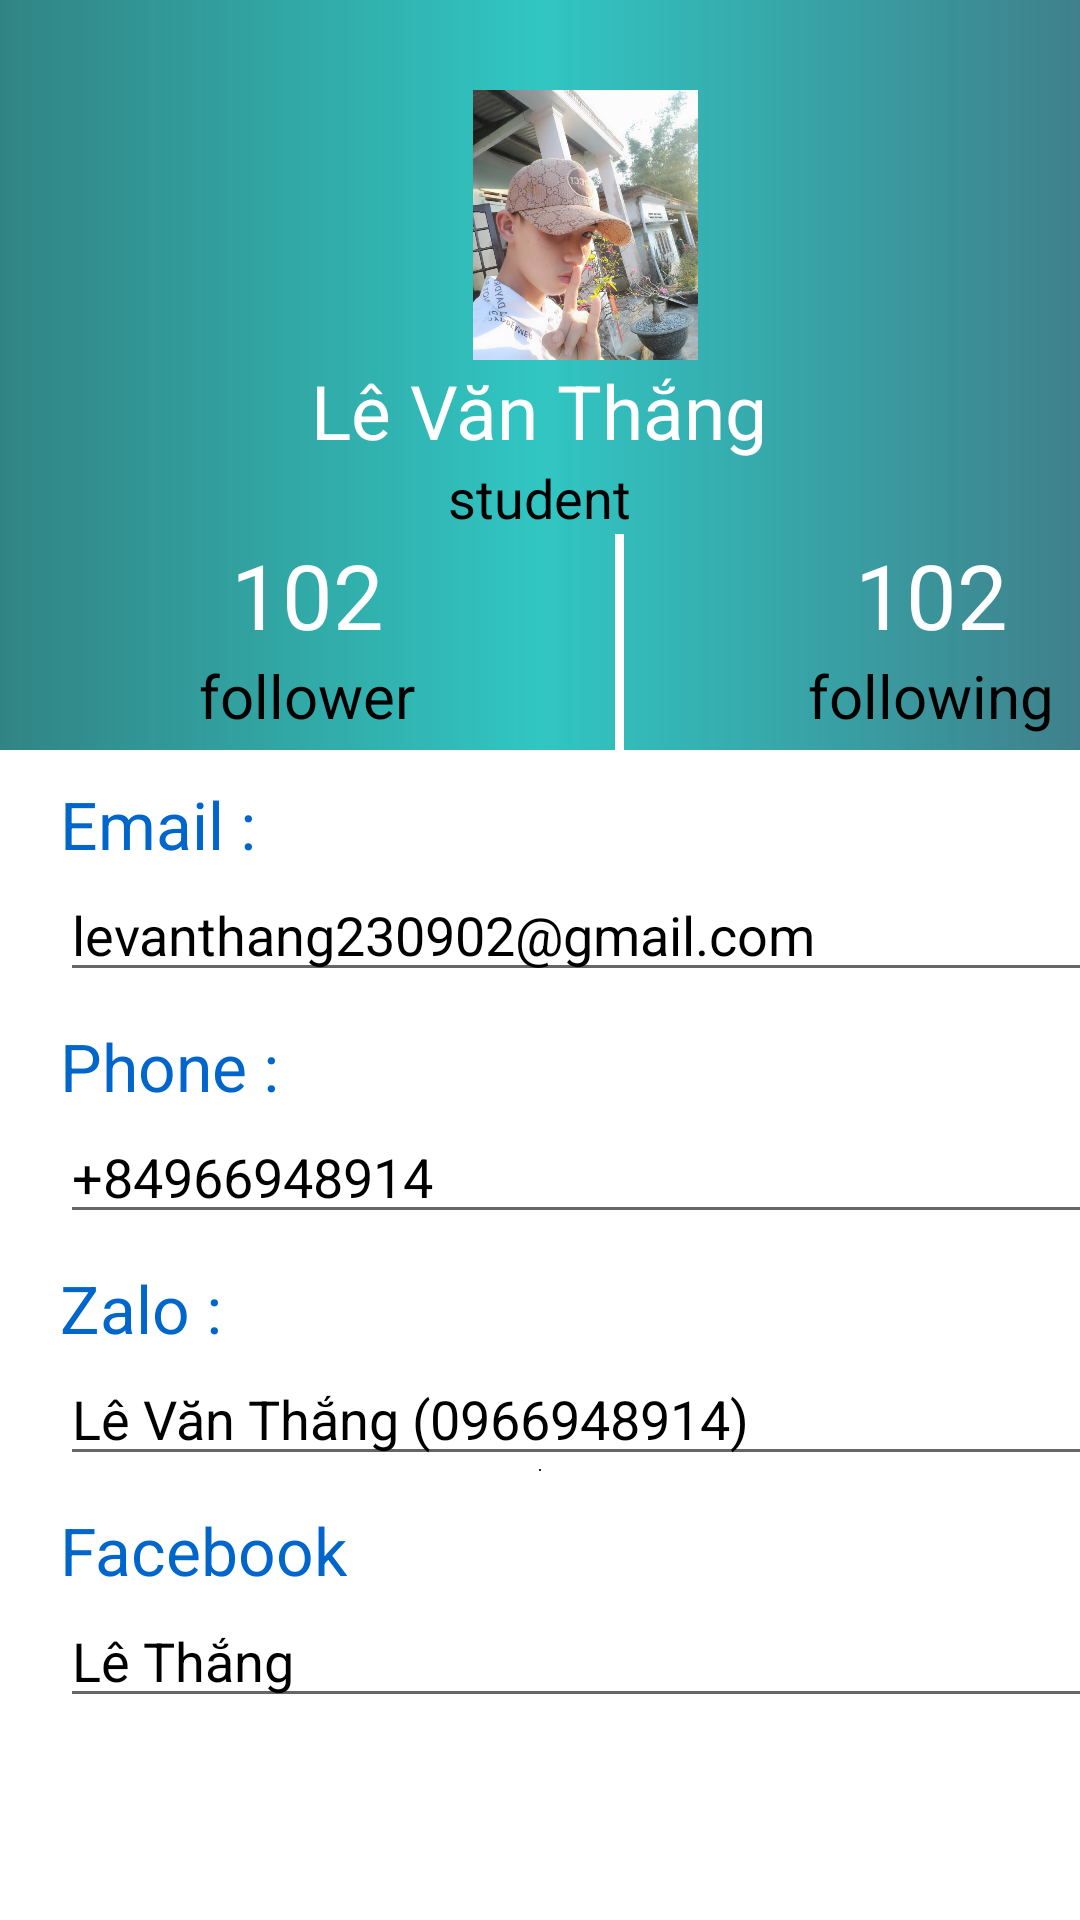

Where icons sit on this 1080*1920 app screen, as Rect(x1, y1, x2, y2):
face: Rect(446, 90, 698, 360)
